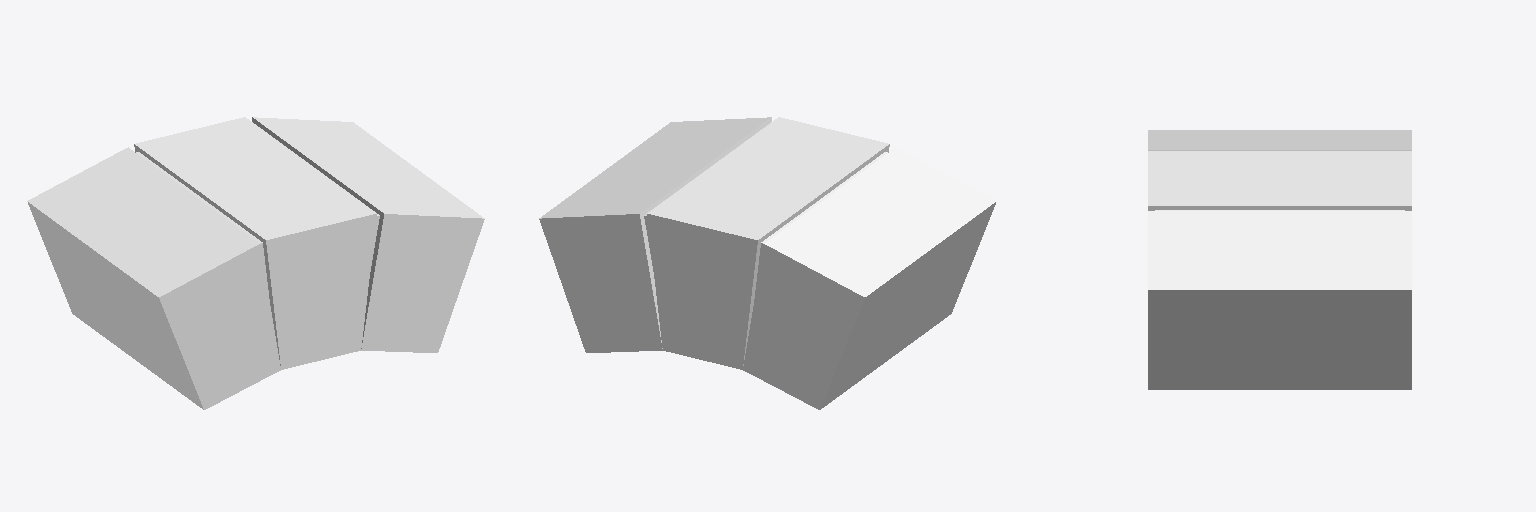
Rendered from generic_round_arch_3_middle.obj.
3 renders of one model, left to right at view 1: azimuth 30°, elevation 25°; view 2: azimuth 150°, elevation 25°; view 3: azimuth 270°, elevation 25°, orthographic.
Visible parts, largest first — view 1: cube.059, cube.060, cube.063; view 2: cube.059, cube.060, cube.063; view 3: cube.063, cube.060, cube.059.
Part boxes in pixels (x1,y1,x2,y2): cube.059: (27, 147, 280, 409); cube.060: (134, 117, 376, 369); cube.063: (252, 117, 484, 352); cube.059: (743, 147, 996, 409); cube.060: (647, 117, 889, 369); cube.063: (539, 117, 771, 352); cube.063: (1148, 211, 1411, 389); cube.060: (1148, 151, 1411, 210); cube.059: (1148, 130, 1411, 150).
Bounding box in the file's own units: 1.61 × 0.7297 × 1.13.